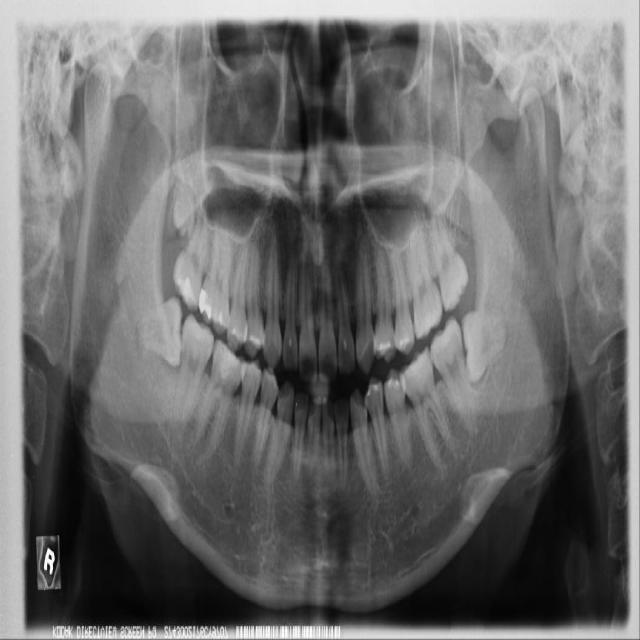Filling: (175, 270, 199, 308), (338, 327, 355, 373), (215, 342, 238, 376), (283, 322, 298, 370), (228, 321, 250, 343), (197, 288, 212, 320), (372, 337, 394, 358), (210, 305, 228, 330), (364, 378, 383, 400), (241, 362, 261, 380), (385, 375, 406, 391), (395, 333, 412, 352), (247, 332, 263, 352)
impacted tooth: (124, 296, 181, 368), (461, 310, 509, 384), (172, 157, 195, 237)
